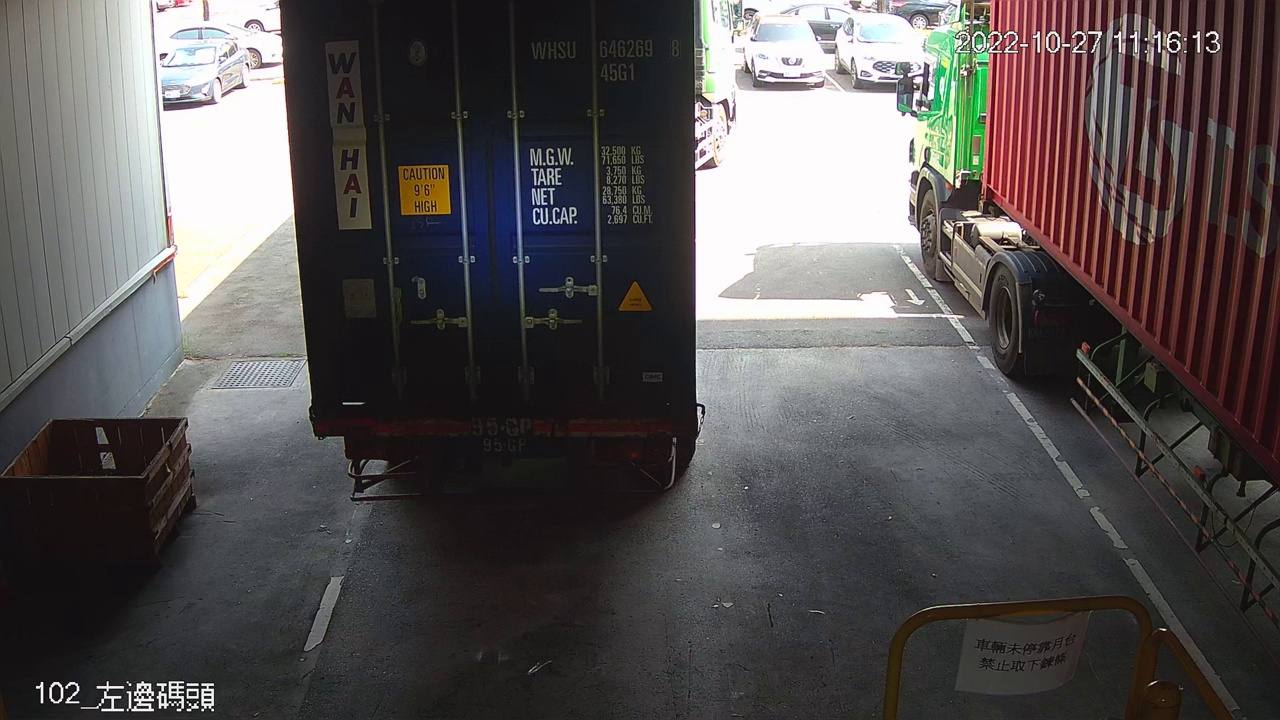container: (523, 27, 688, 89)
